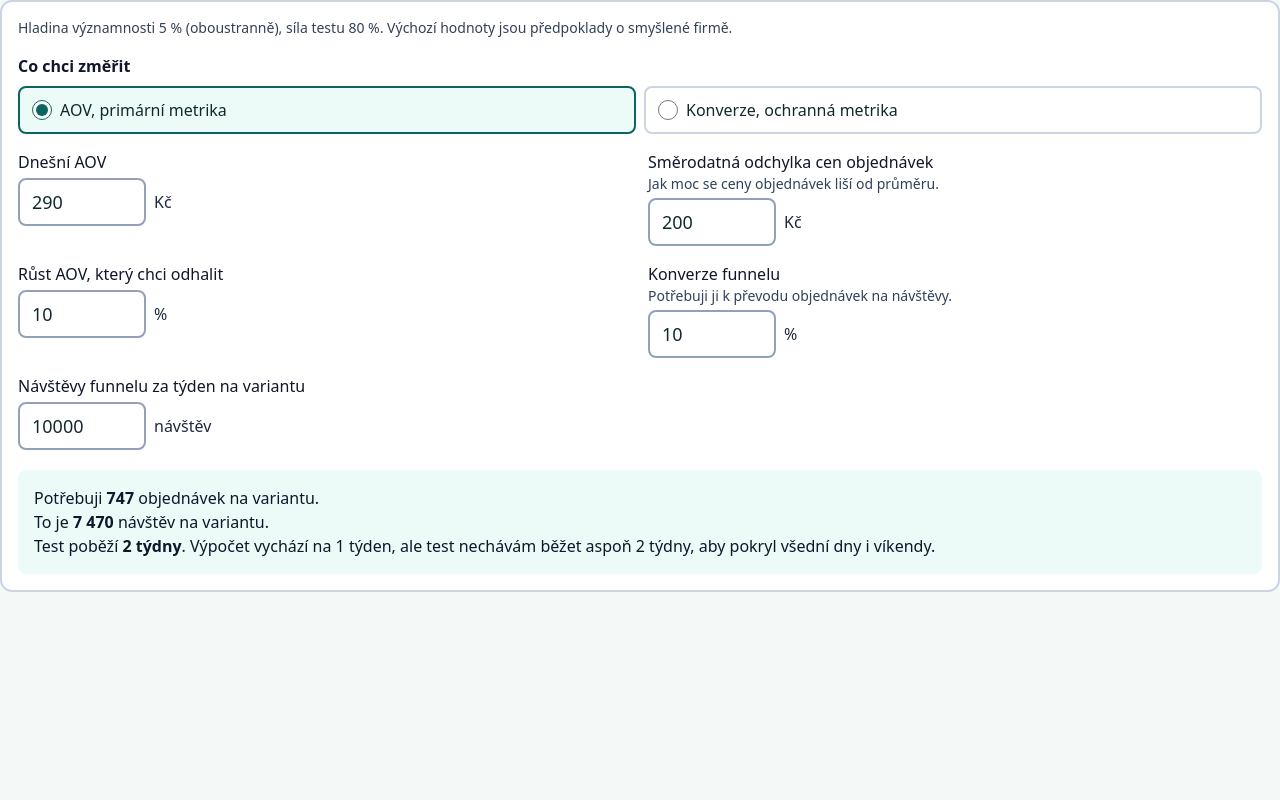
Test case: SampleSizeCalculator › pro konverzi vrátí 55 252 návštěv a 6 týdnů
This screenshot has width=1280, height=800.
Click the radio button labelled "Konverze, ochranná metrika" at (668, 110), box [658,100,678,120]
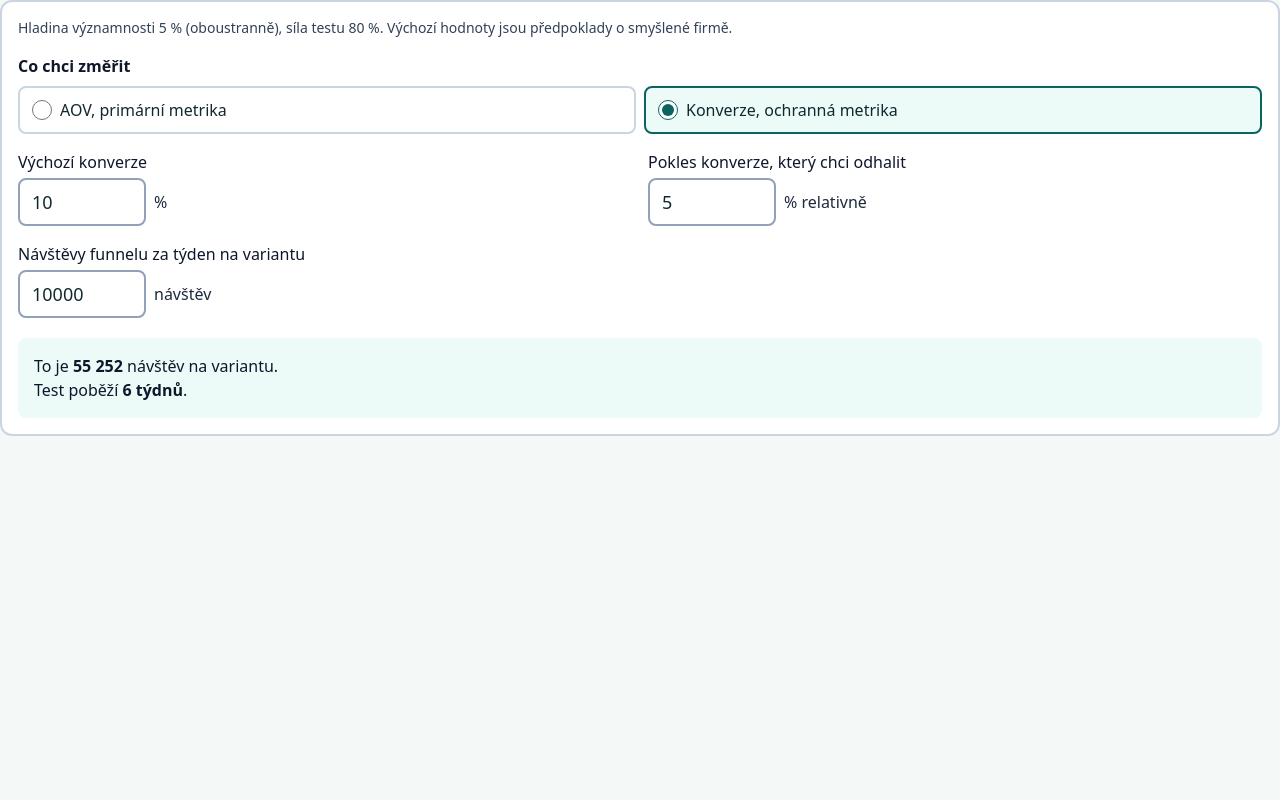
Now the text "55 252" is shown, box [73,355,123,377]
Now the text "6 týdnů" is shown, box [122,379,183,401]
